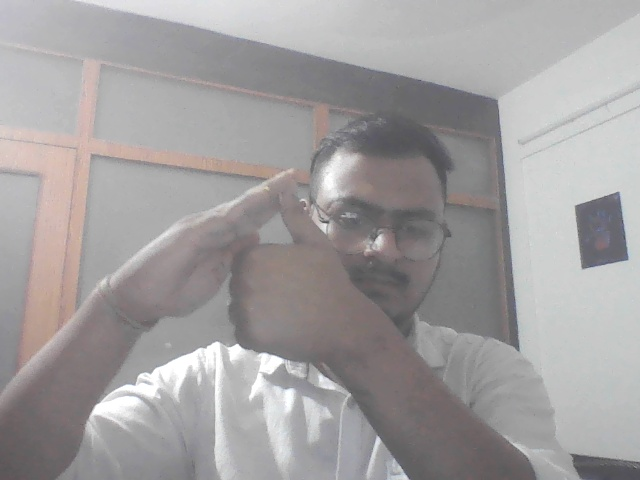I Feel You: (147, 163, 337, 379)
